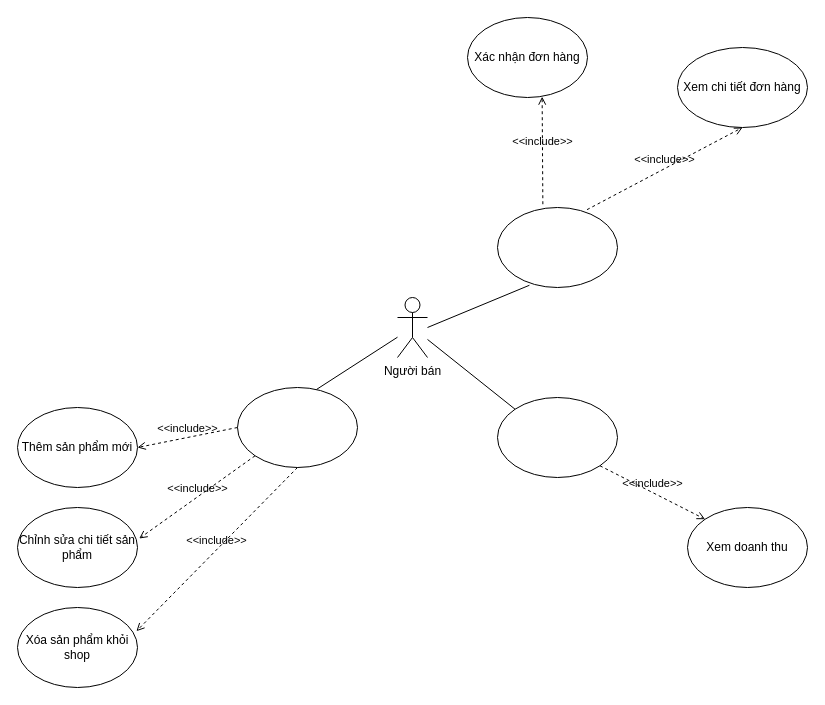
Image size: 825x705. Some labels were removed from this diagram. Here are the shapes that lost their labels. From the top down, the centre of each, then its label:
the point at 557,247: Quản lý đơn hàng của shop
the point at 297,427: Quản lý sản phẩm của shop
the point at 557,437: Xem sảm phẩm đã bán
